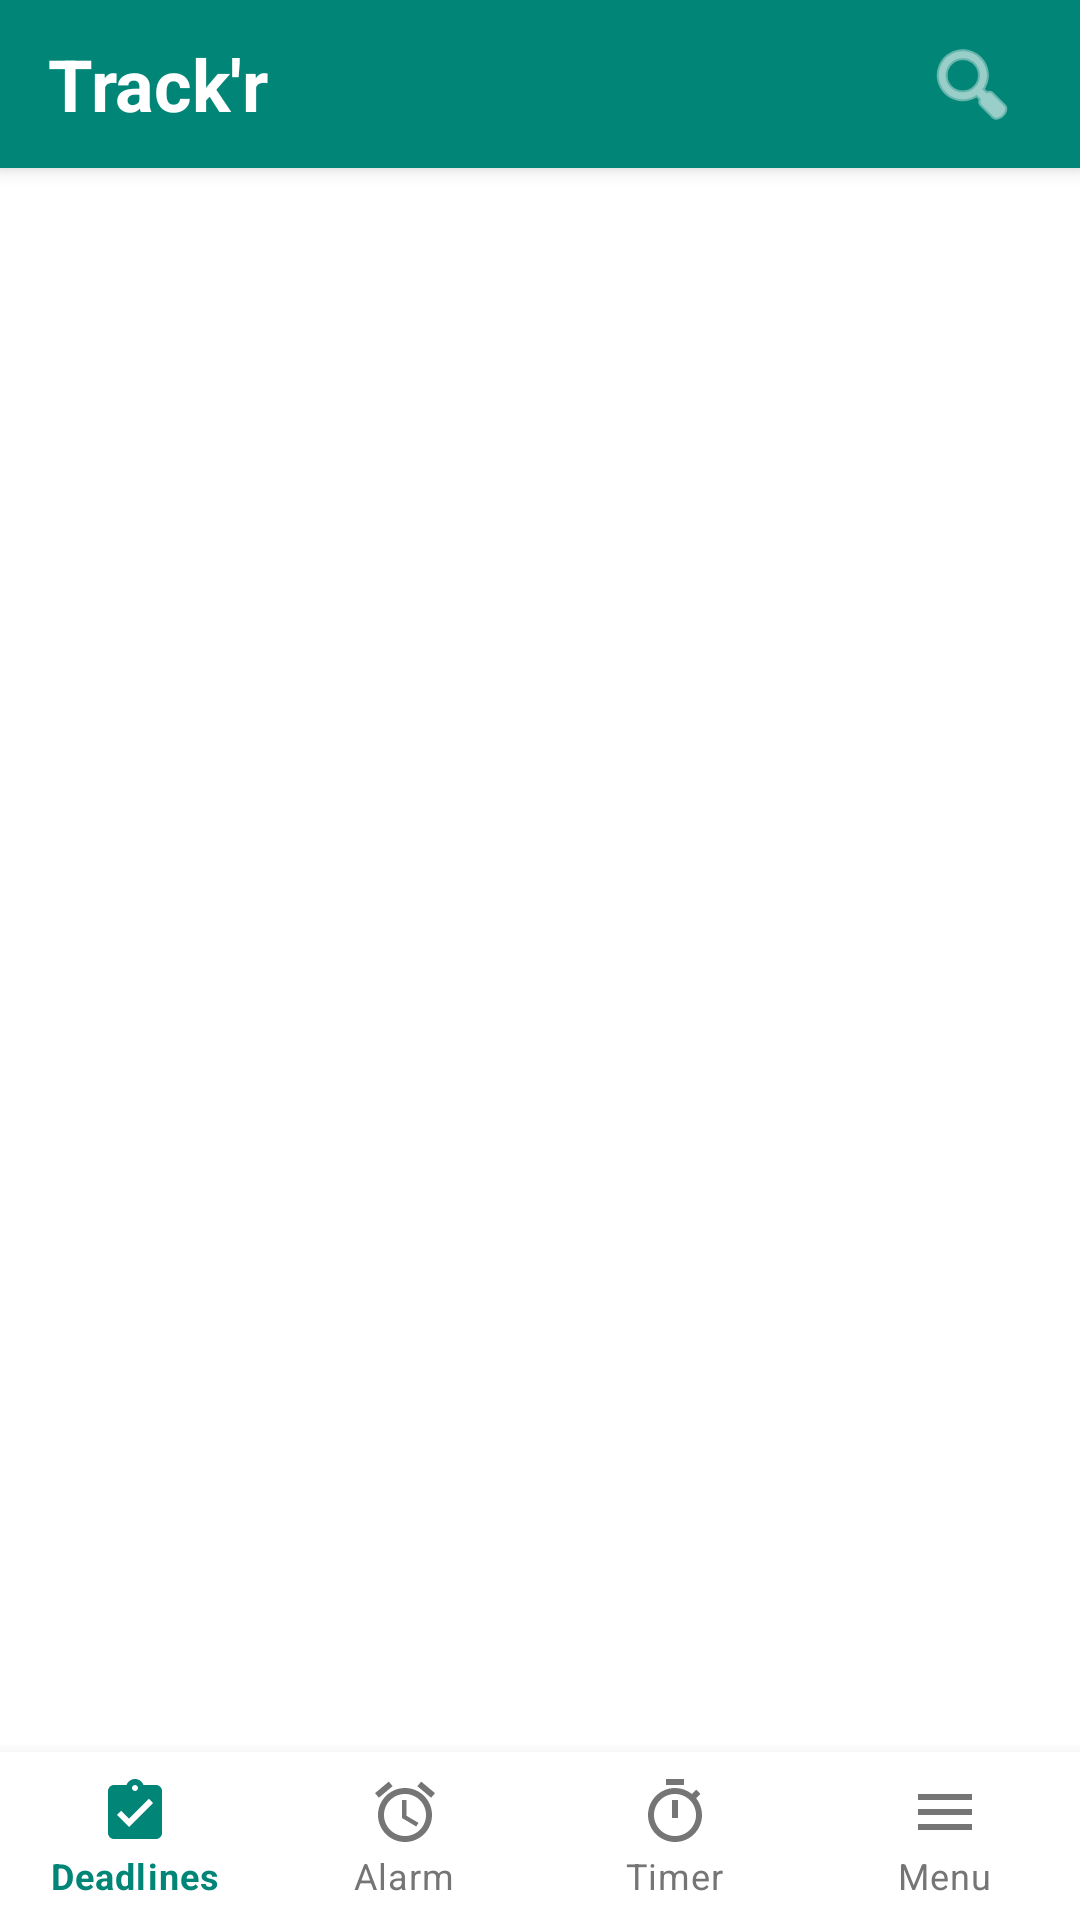

Where icons sit on this 1080px×1920px app screen, as (x1, y1, x2, y2):
search: (936, 49, 1008, 120)
